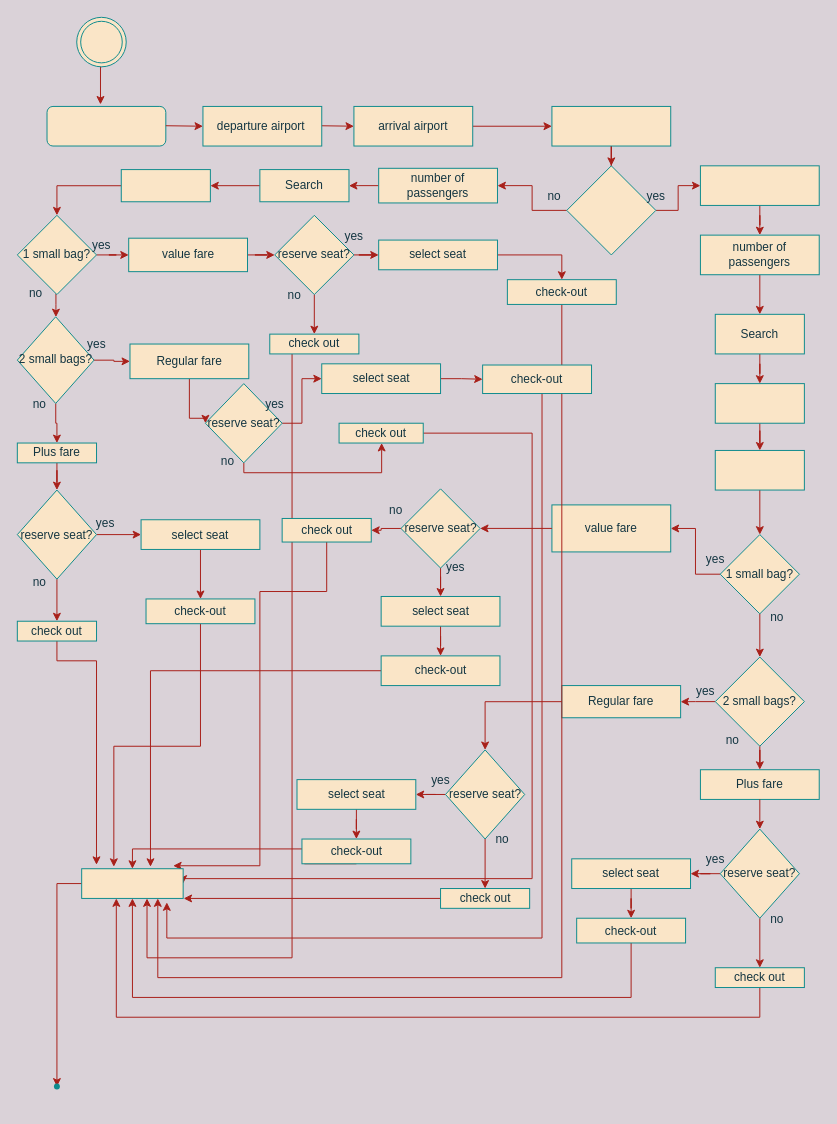
Image size: 837x1124. Some labels were removed from this diagram. The shapes that lost their labels are listed below. From the top down, each one's centre as x and y in pixels, then its label:
(106,125): book a flight
(611,125): departure date
(165,185): Select flight
(759,185): return date
(611,210): return trip?
(759,403): Select departure flight
(759,469): Select return flight
(132,883): payment
